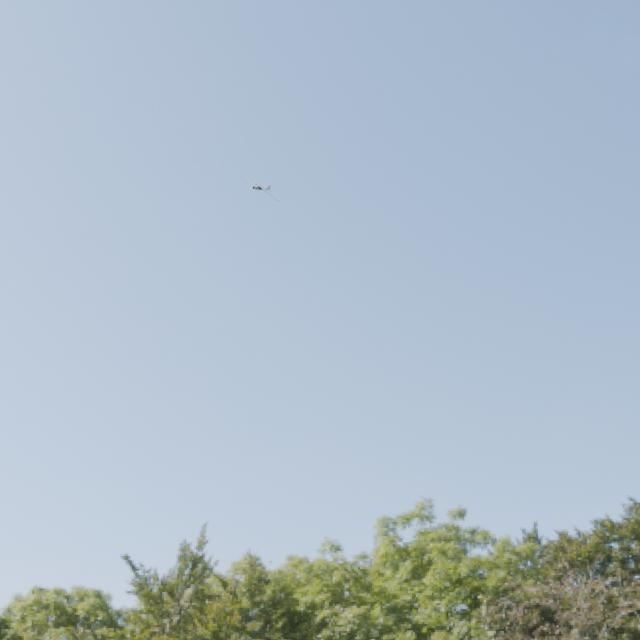Airaplan: (247, 178, 280, 202)
